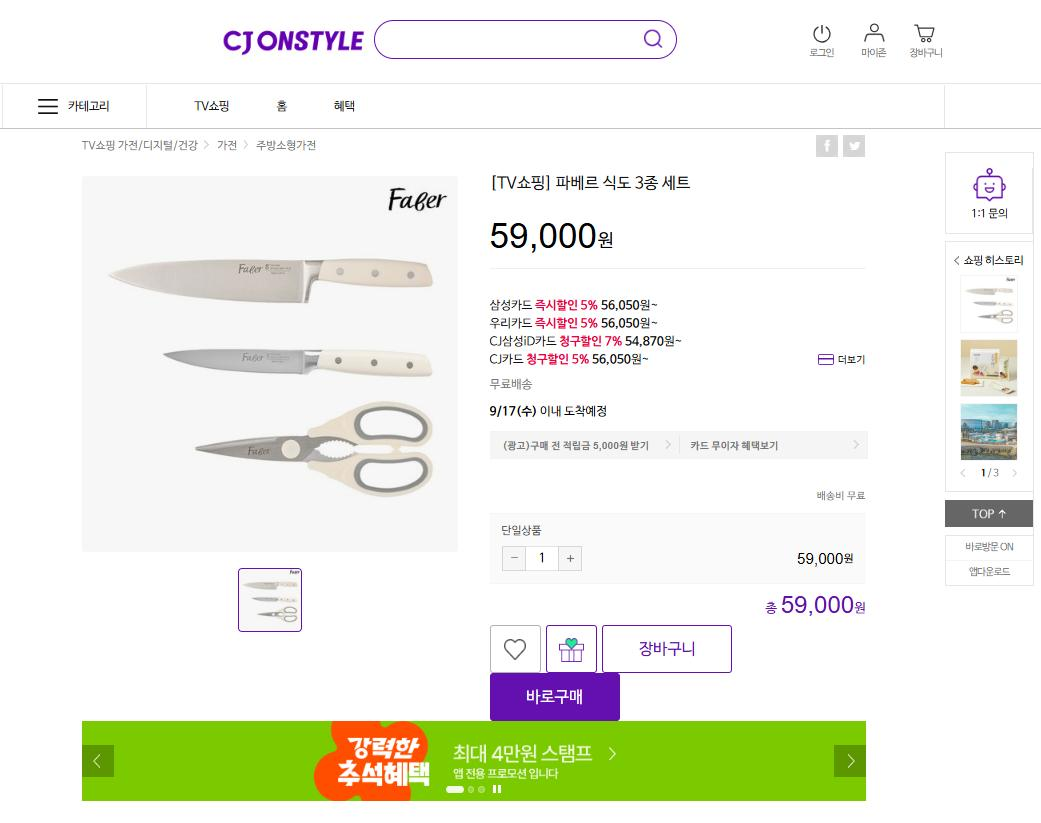button: (947, 152, 1033, 234), (603, 625, 733, 673), (491, 677, 620, 722), (681, 431, 867, 460), (30, 82, 119, 125), (499, 542, 584, 572), (546, 625, 597, 674), (944, 534, 1035, 561), (185, 85, 238, 127), (855, 14, 895, 69), (907, 18, 954, 64), (803, 14, 842, 69), (944, 561, 1035, 584), (324, 83, 371, 127), (263, 81, 299, 128), (845, 132, 864, 158), (817, 133, 836, 158)
input_field: (368, 15, 681, 66)
popup: (82, 720, 867, 800), (491, 430, 678, 459)
